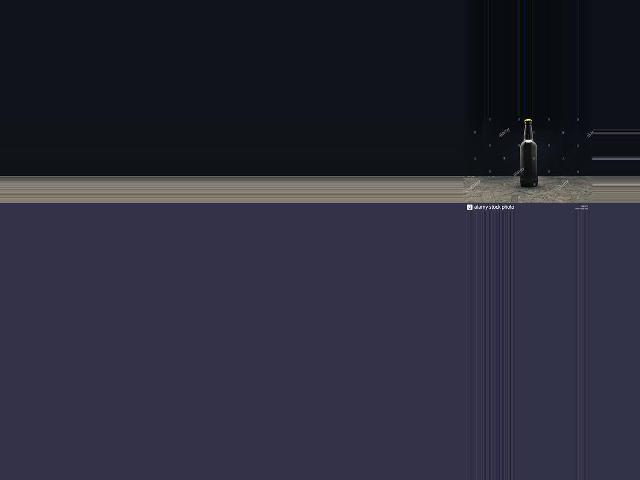beer: (521, 119, 537, 187)
